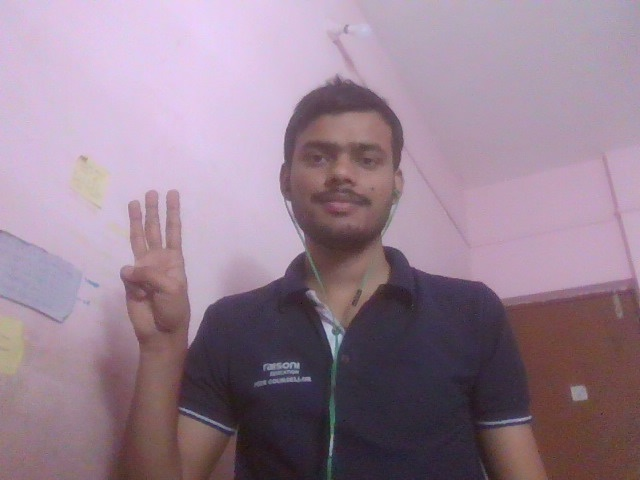Water: (65, 166, 242, 380)
